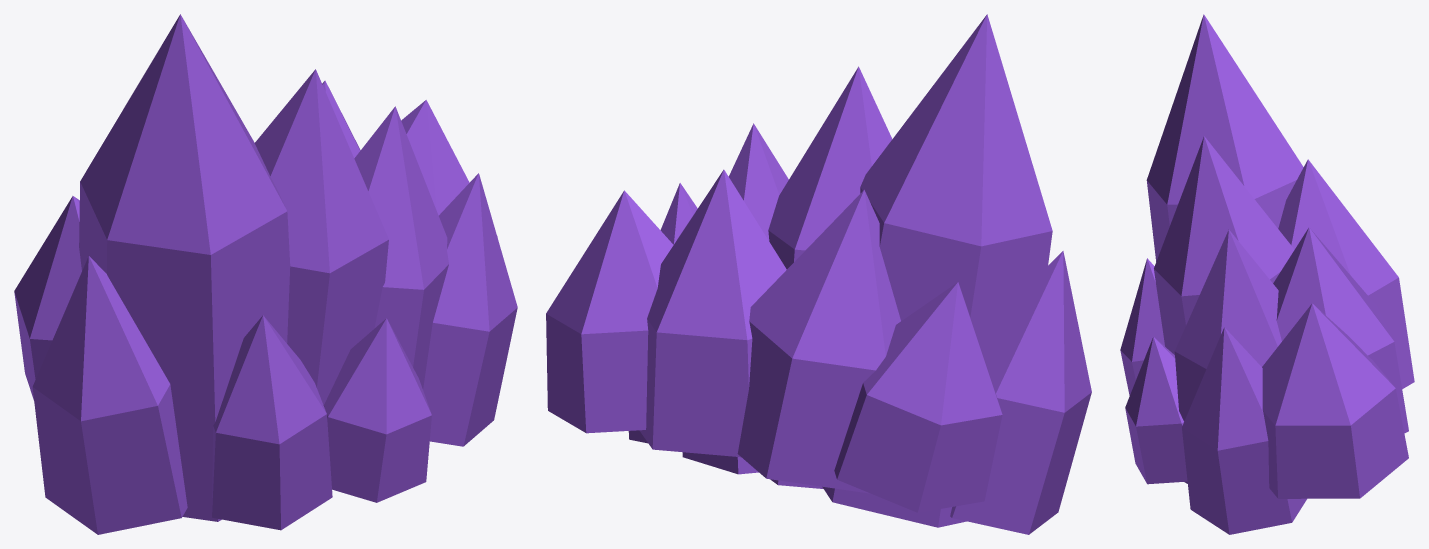
Rendered from Geode_Cluster_E.fbx.
The picture shows the model from 3 angles, left to right: view 1: azimuth 30°, elevation 25°; view 2: azimuth 150°, elevation 25°; view 3: azimuth 270°, elevation 25°; orthographic projection. The views are drawn at different scales.
Parts seen in each view (by area): view 1: Crystal1, Crystal2, Crystal3; view 2: Crystal2, Crystal1, Crystal3; view 3: Crystal1, Crystal2, Crystal3.
Part boxes in pixels (x1=…): Crystal1: x1=79, y1=14, x2=517, y2=521; Crystal2: x1=14, y1=69, x2=497, y2=534; Crystal3: x1=211, y1=106, x2=448, y2=530; Crystal2: x1=546, y1=66, x2=1091, y2=534; Crystal1: x1=628, y1=14, x2=1052, y2=527; Crystal3: x1=682, y1=123, x2=900, y2=493; Crystal1: x1=1125, y1=14, x2=1408, y2=534; Crystal2: x1=1154, y1=136, x2=1408, y2=498; Crystal3: x1=1120, y1=159, x2=1414, y2=483.
Bounding box in the file's own units: 1.25 × 1.24 × 0.8295.
